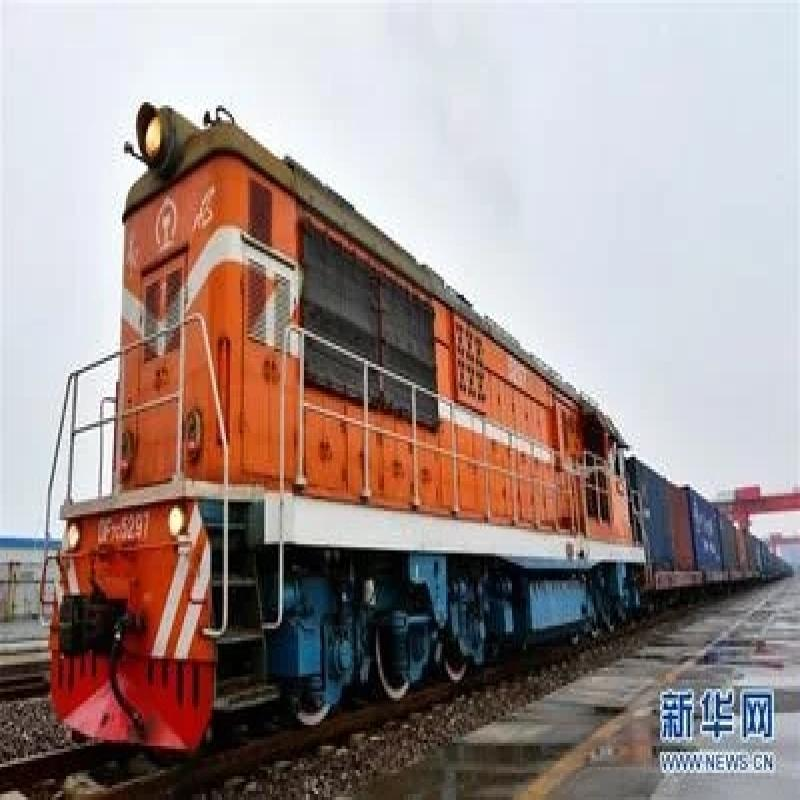train: (43, 88, 653, 768)
